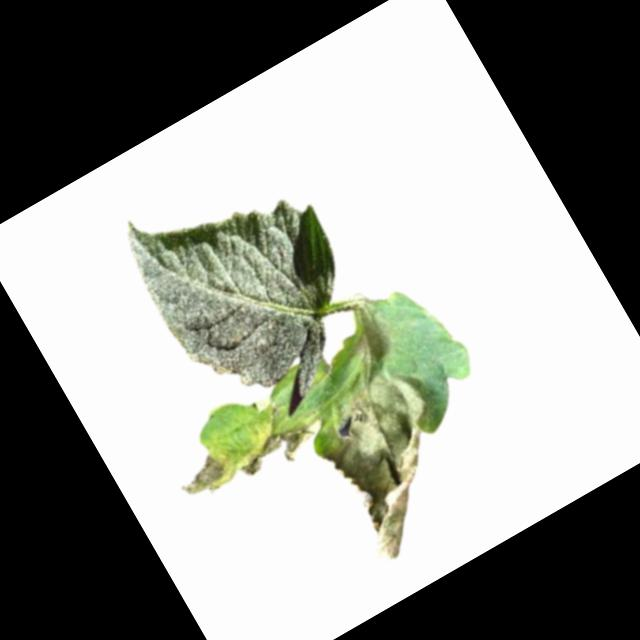Late_blight: (296, 355, 490, 567), (229, 406, 325, 486), (332, 303, 402, 378), (169, 439, 243, 507), (247, 389, 288, 430)
healthy: (110, 134, 394, 438)
